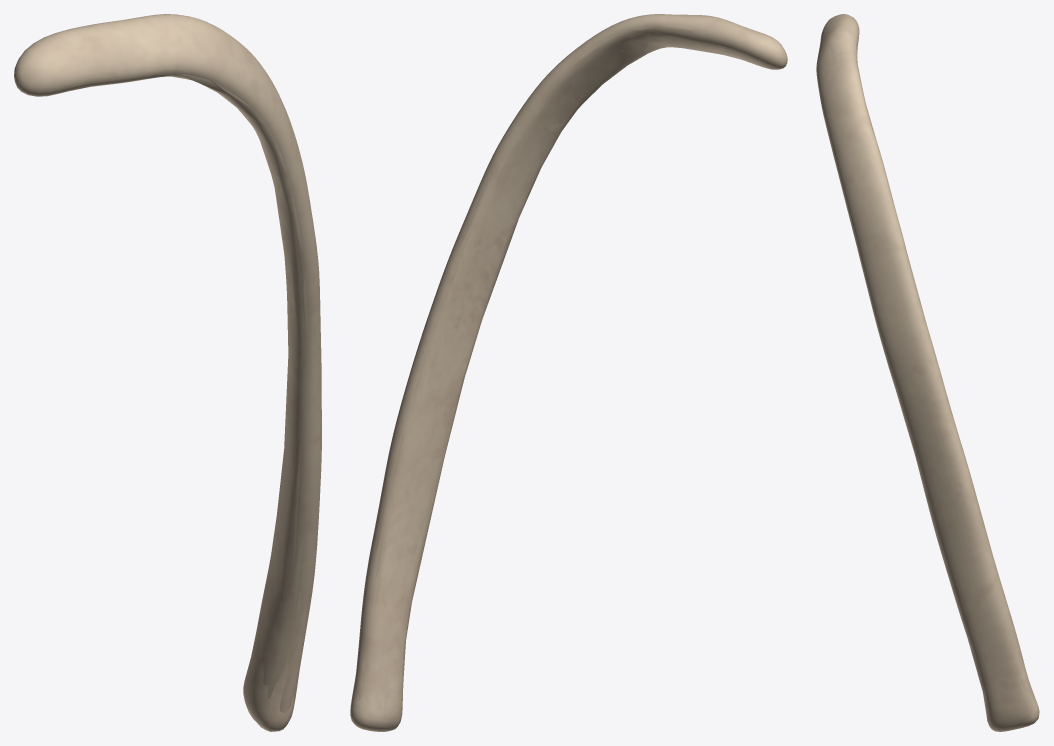
File: Rib L05.fbx
3 renders of one model, left to right at view 1: azimuth 30°, elevation 25°; view 2: azimuth 150°, elevation 25°; view 3: azimuth 270°, elevation 25°, orthographic. The views are drawn at different scales.
Parts seen in each view (by area): view 1: Rib L05 high, Rib L05, Rib L05 low; view 2: Rib L05, Rib L05 low, Rib L05 high; view 3: Rib L05 high, Rib L05, Rib L05 low.
Part boxes in pixels (x1,y1,x2,y2): Rib L05 high: (14,14,321,731); Rib L05: (14,14,321,731); Rib L05 low: (70,55,320,713); Rib L05: (350,14,787,731); Rib L05 low: (355,24,735,694); Rib L05 high: (350,14,787,731); Rib L05 high: (816,14,1038,730); Rib L05: (816,14,1039,731); Rib L05 low: (826,29,1033,714).
Bounding box in the file's own units: 10.95 × 22.42 × 7.54.
Materials: 1 (1 with a texture image).
